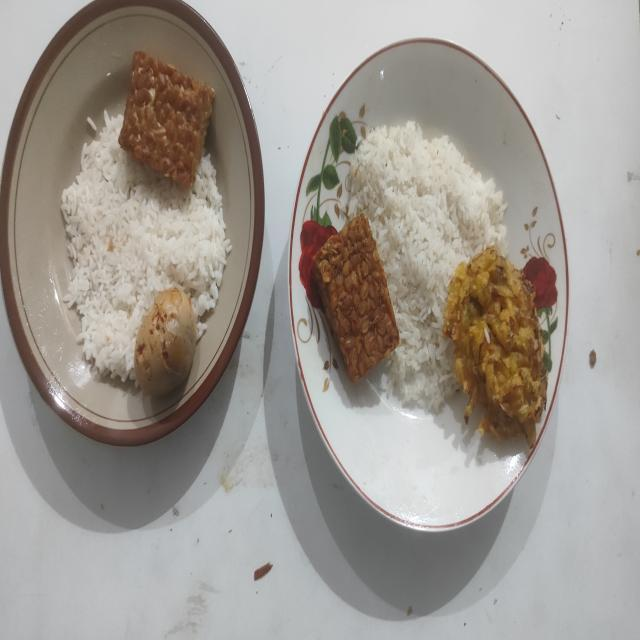nasi_putih: (349, 121, 506, 411), (61, 116, 232, 380)
tempe_goreng: (313, 214, 399, 382), (118, 52, 214, 188)
